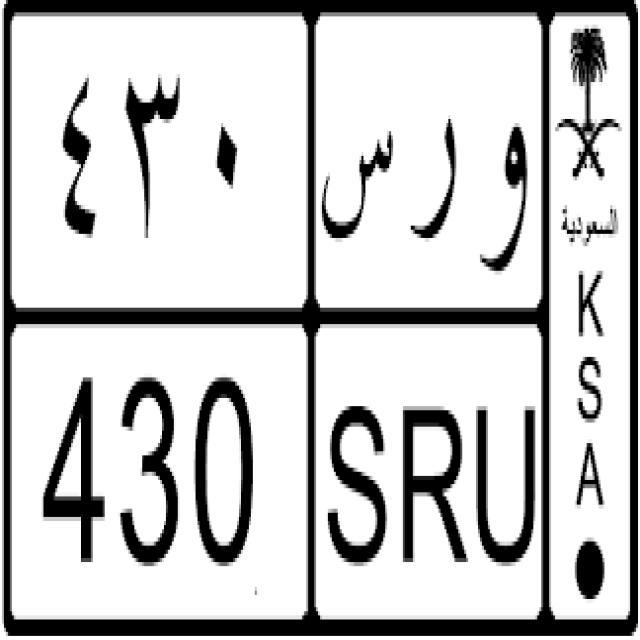license_plate: (35, 376, 537, 572)
